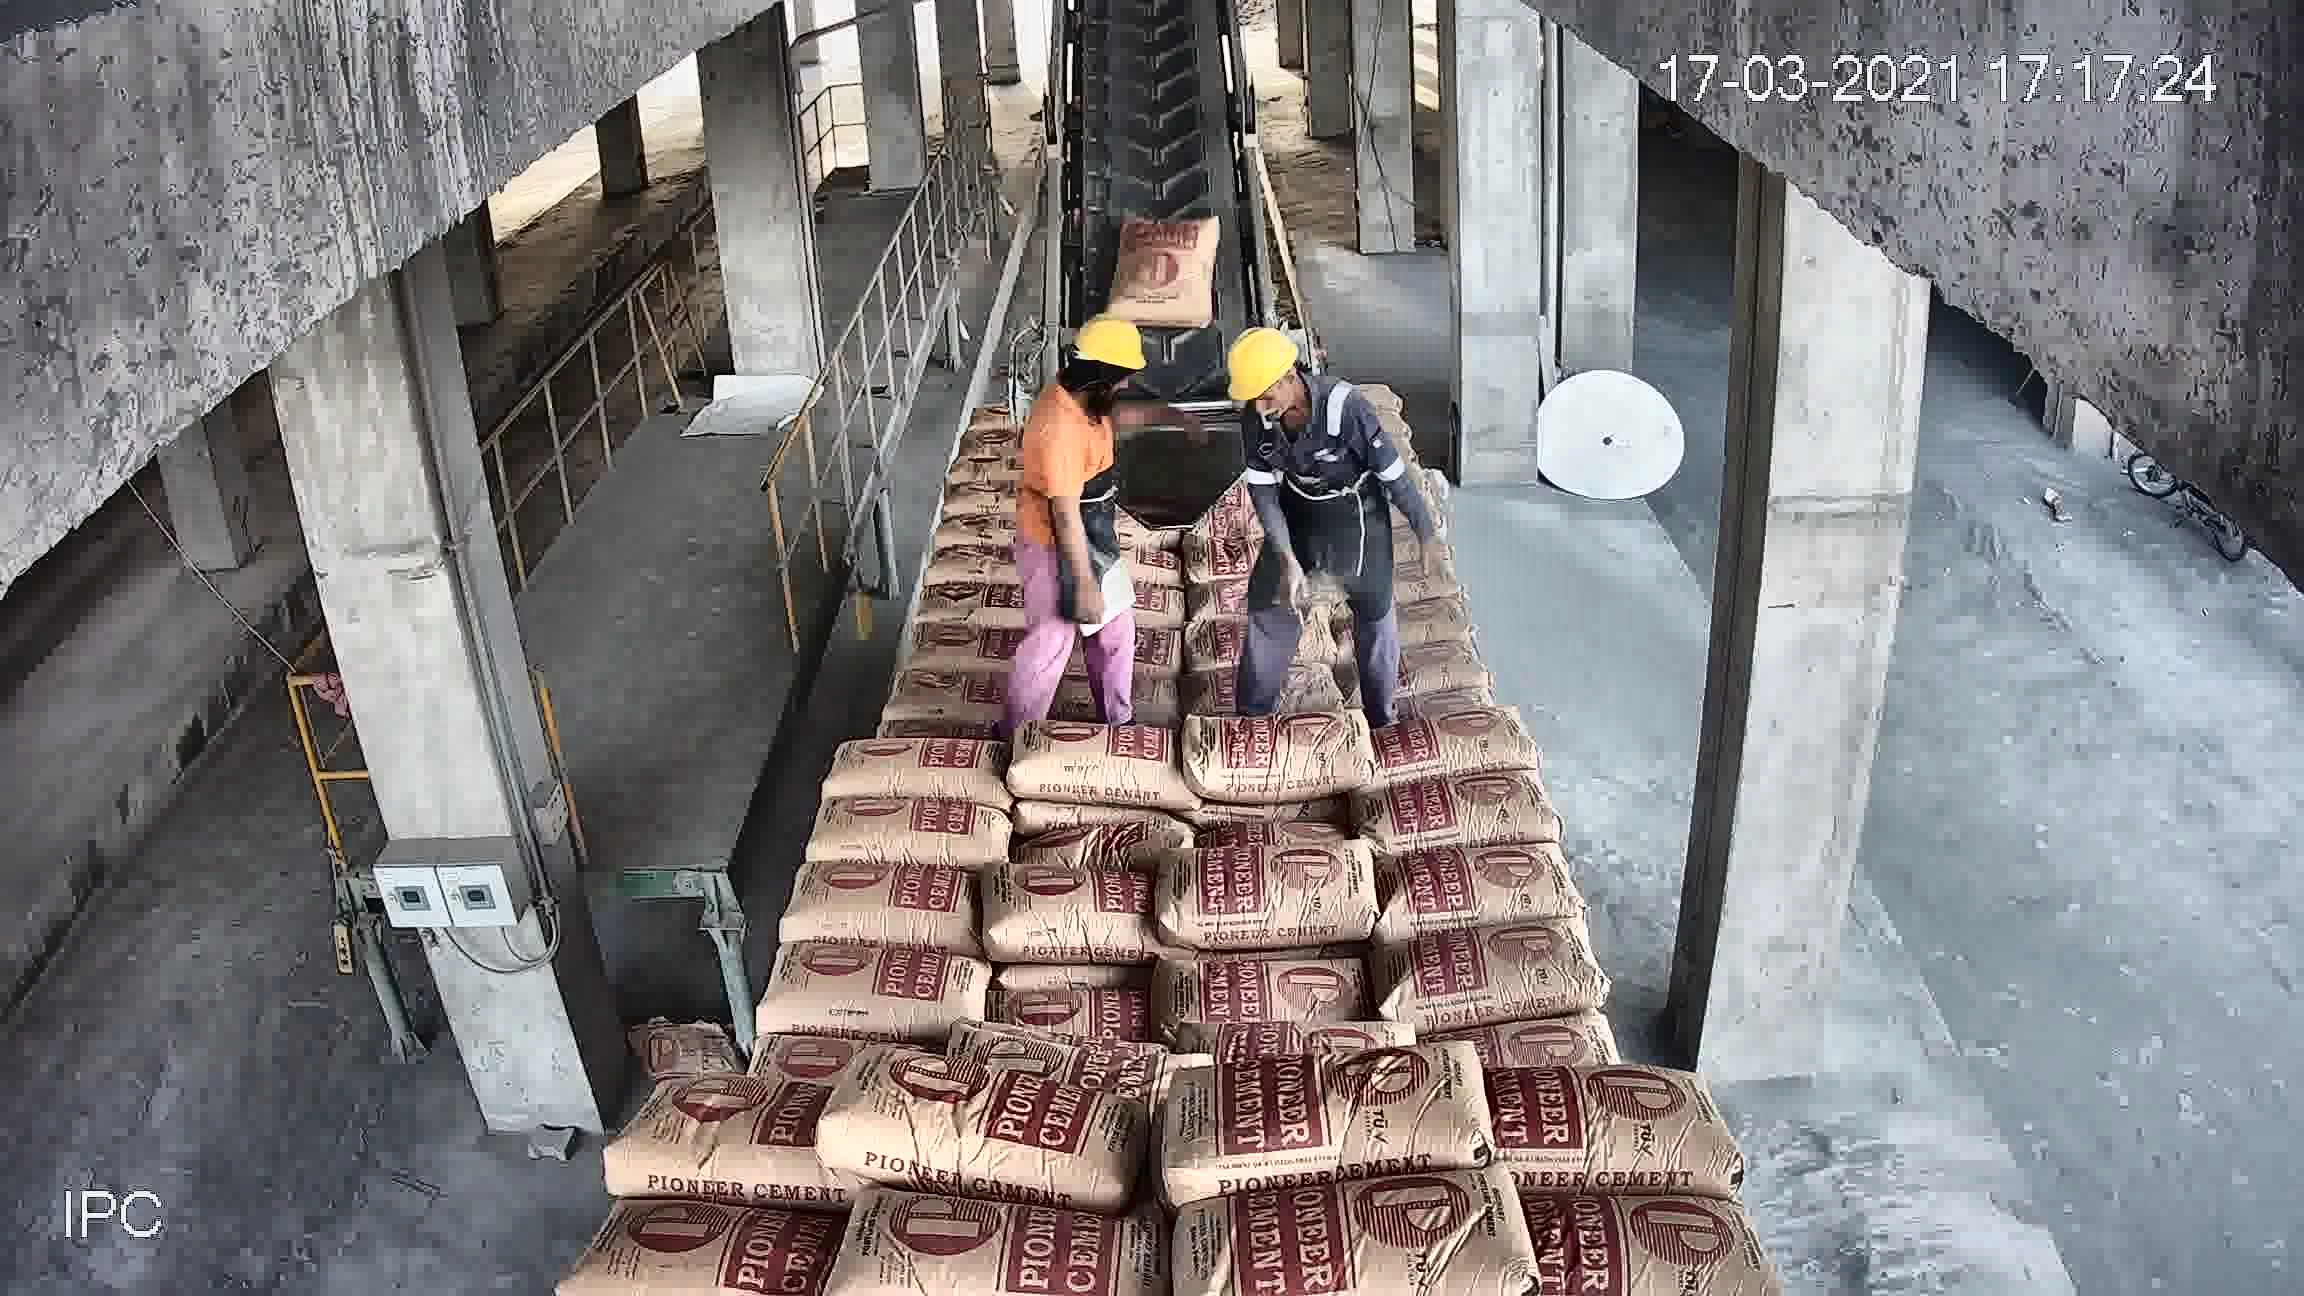bag_h: (813, 1052, 1158, 1195), (1169, 1173, 1527, 1293), (1487, 1051, 1734, 1196), (831, 1179, 1154, 1288), (600, 1067, 820, 1203), (1533, 1176, 1764, 1296), (1160, 832, 1378, 948), (567, 1201, 840, 1291), (1381, 919, 1597, 1033), (760, 934, 987, 1040), (1385, 839, 1589, 935), (1366, 755, 1567, 851), (785, 855, 980, 949), (986, 858, 1158, 964), (1154, 949, 1367, 1032), (804, 794, 1006, 878), (1006, 715, 1185, 807), (809, 729, 1006, 809), (1179, 714, 1362, 794), (1369, 695, 1532, 780), (991, 973, 1147, 1044), (1337, 639, 1480, 703), (896, 608, 1022, 673), (881, 658, 1014, 718), (1332, 597, 1472, 650), (919, 578, 1041, 622), (915, 540, 1017, 587), (919, 503, 1014, 551)
bag_v: (1112, 207, 1222, 323)
belt: (1054, 28, 1245, 467)
